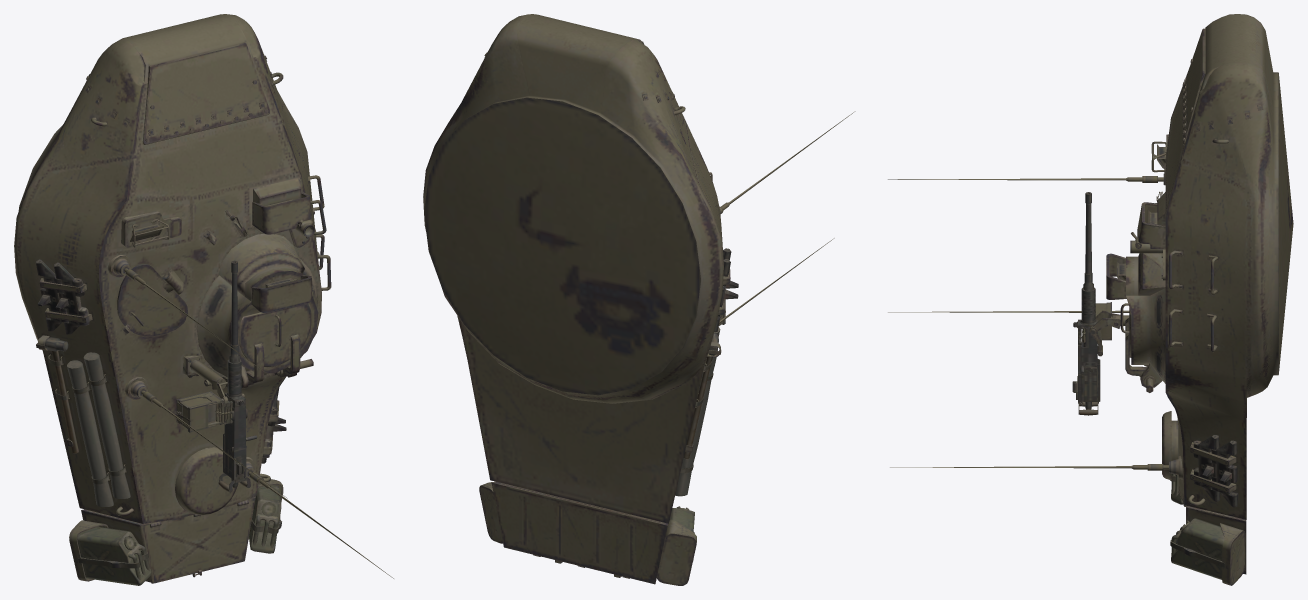
The model's file is Turret_01.glb.
3 views of the same model, side by side, from view 1: azimuth 30°, elevation 25°; view 2: azimuth 150°, elevation 25°; view 3: azimuth 270°, elevation 25° (orthographic). The views are drawn at different scales.
Parts seen in each view (by area): view 1: set_0_group_0; view 2: set_0_group_0; view 3: set_0_group_0.
Boxes of the visible parts, x1,y1,x2,y2 form: set_0_group_0: (14, 14, 393, 585); set_0_group_0: (423, 14, 855, 585); set_0_group_0: (888, 14, 1293, 585).
Bounding box in the file's own units: 2.25 × 3.89 × 2.81.
Materials: 1 (1 with a texture image).
